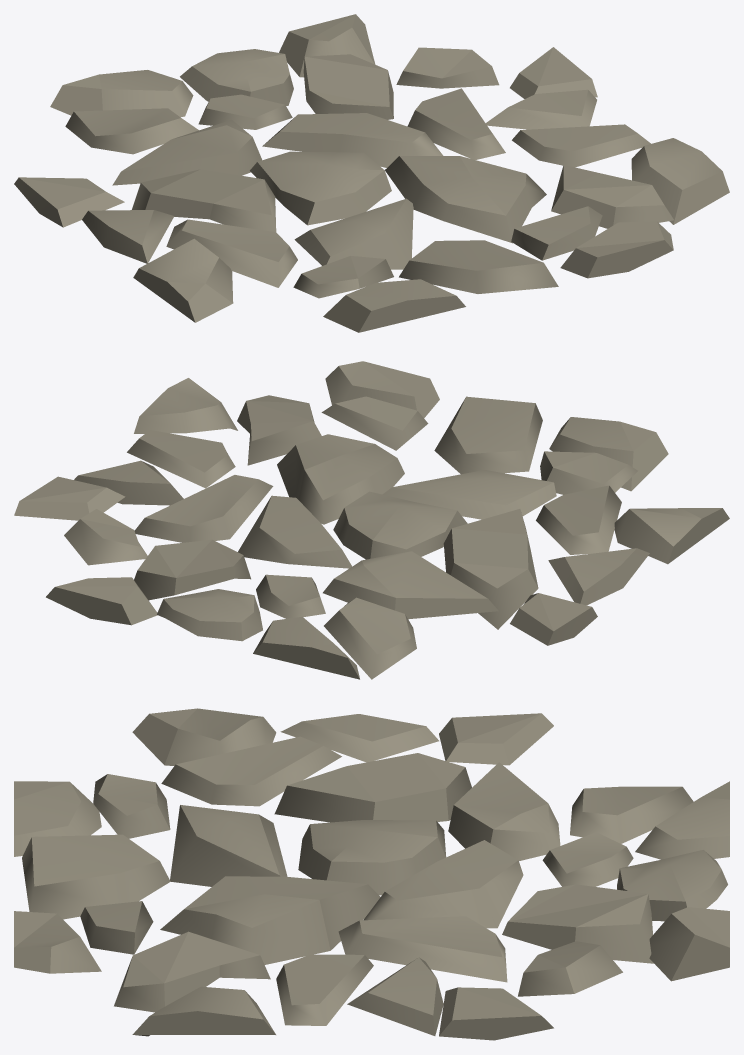
Rendered from Stone_Path_Crossroads.glb.
3 renders of one model, top to bottom at view 1: azimuth 30°, elevation 25°; view 2: azimuth 150°, elevation 25°; view 3: azimuth 270°, elevation 25°, orthographic. The views are drawn at different scales.
Visible parts, largest first — view 1: Stone_Path_Crossroads; view 2: Stone_Path_Crossroads; view 3: Stone_Path_Crossroads.
Boxes of the visible parts, x1,y1,x2,y2 form: Stone_Path_Crossroads: [14, 14, 729, 332]; Stone_Path_Crossroads: [14, 361, 729, 679]; Stone_Path_Crossroads: [14, 708, 729, 1040].
Size of the model in its own units: 1.47 by 0.1587 by 1.47.
